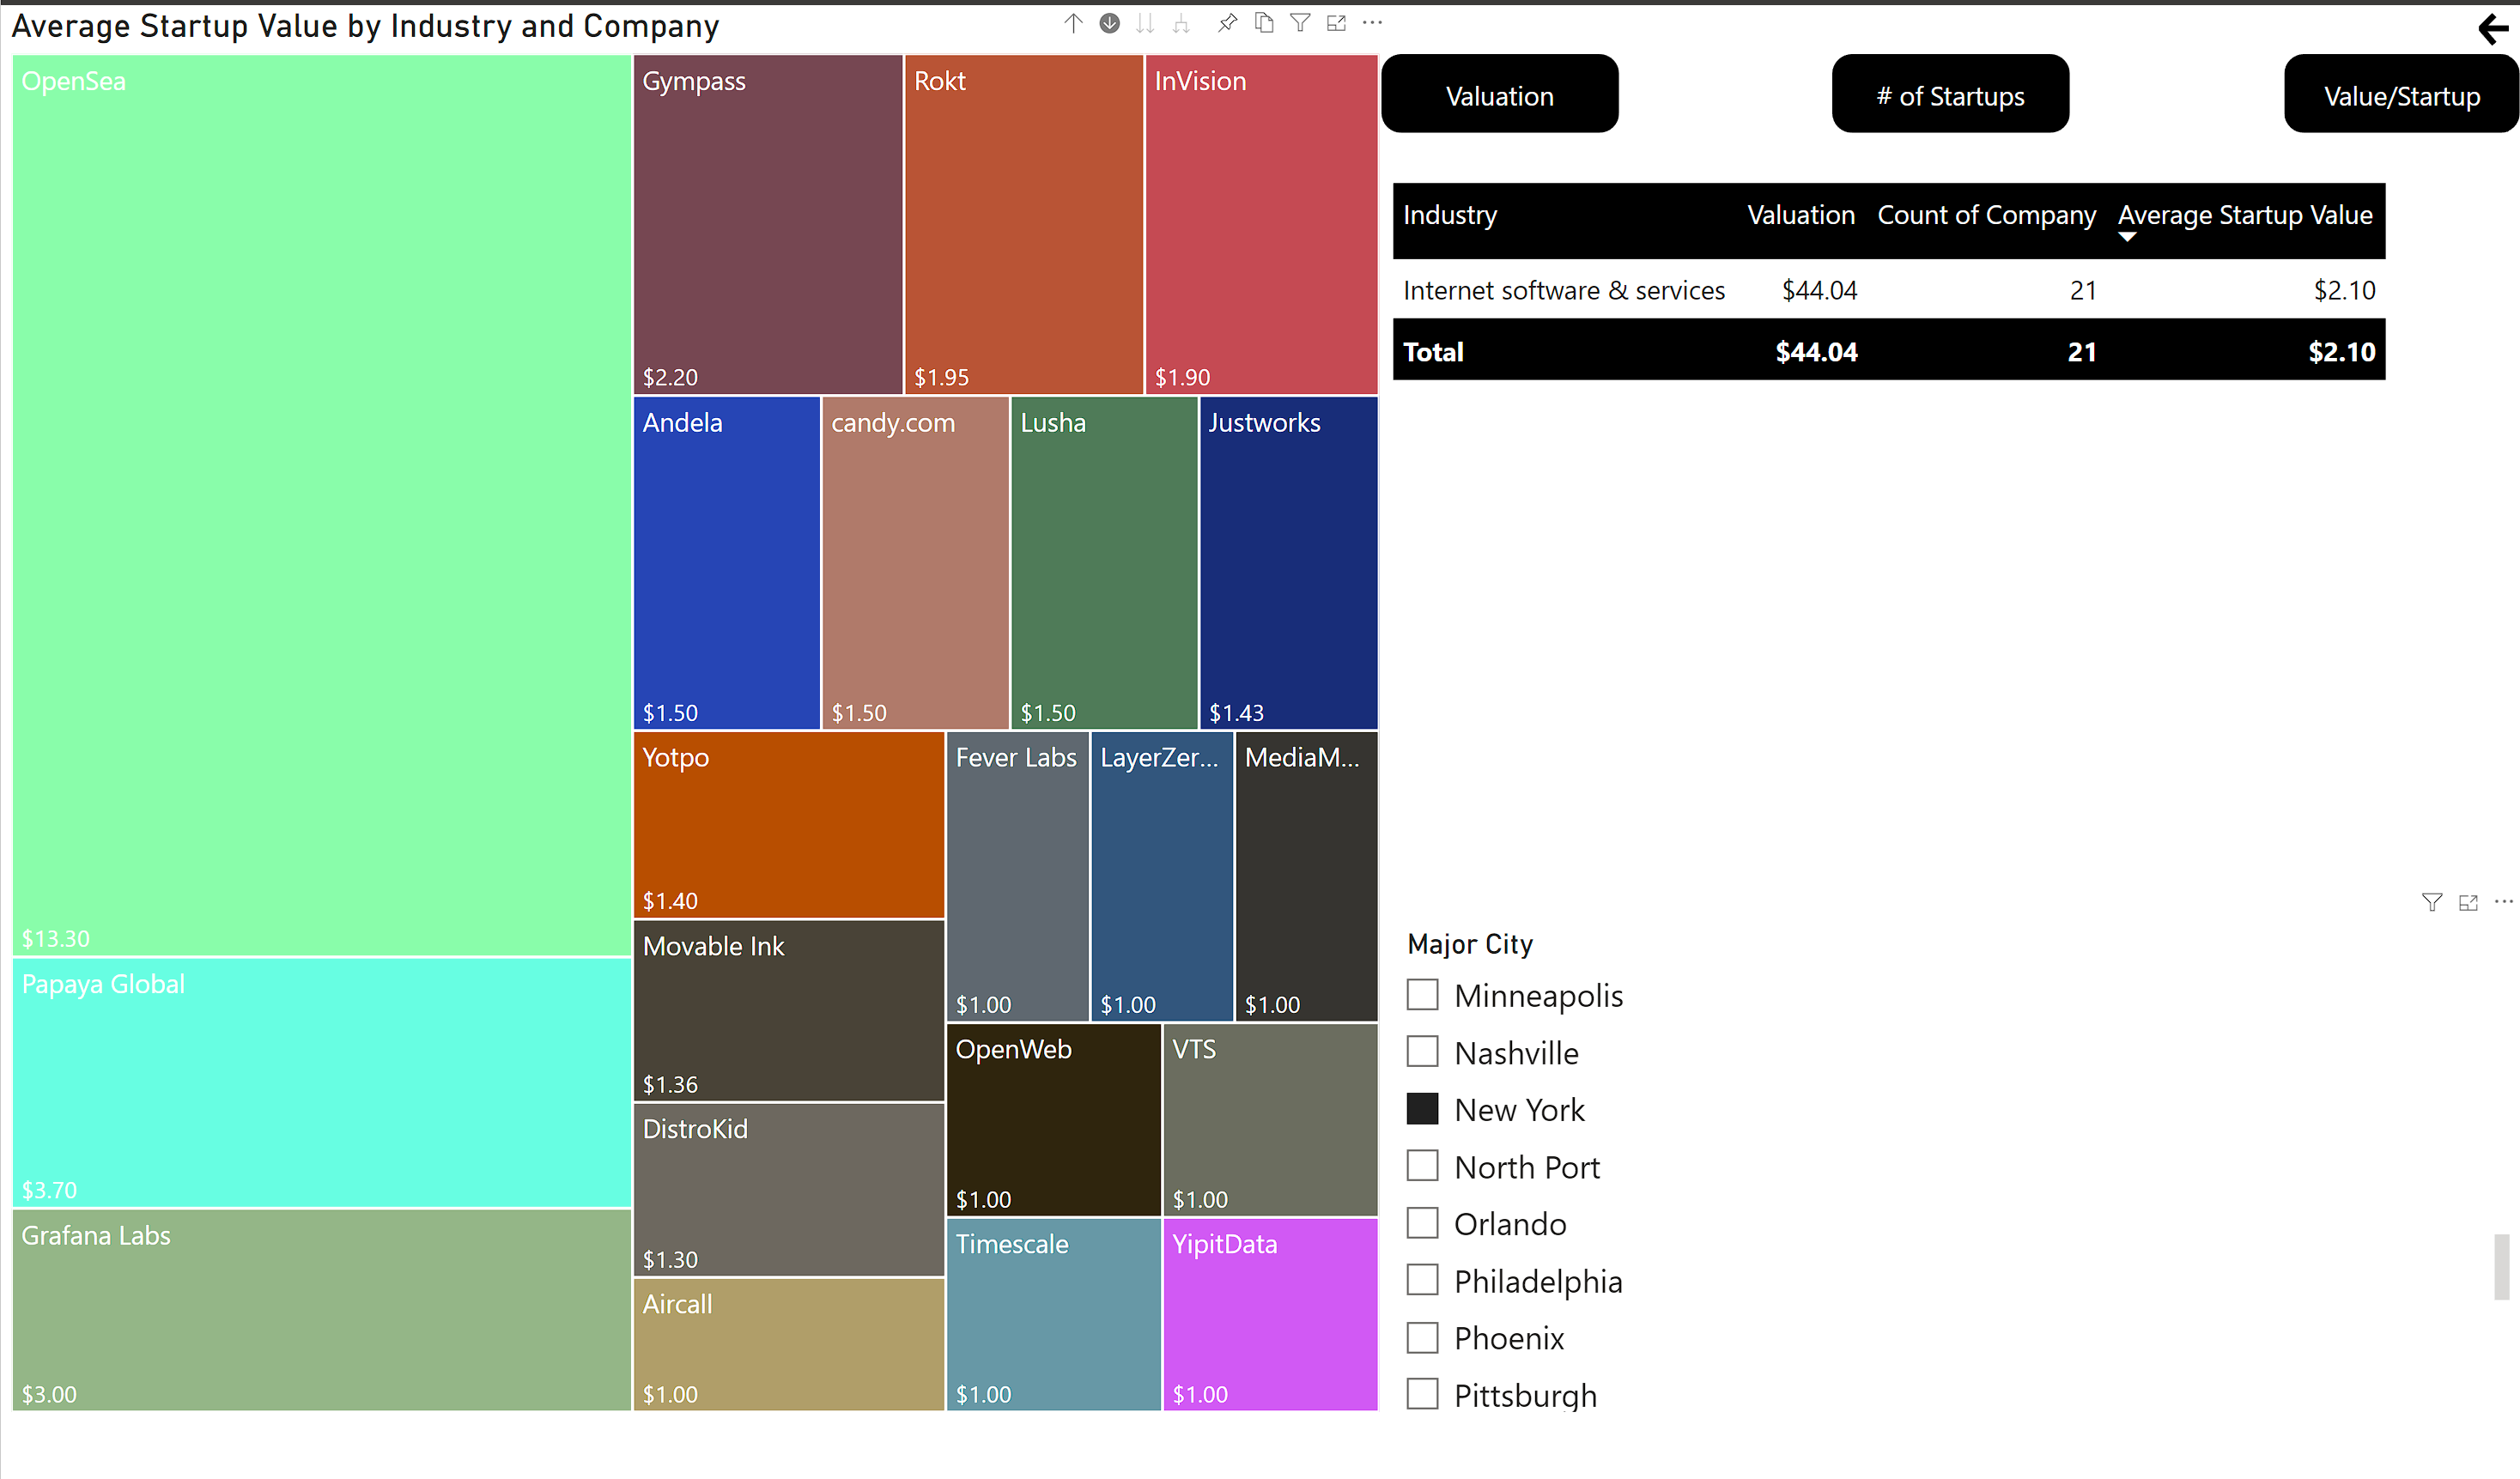

This screenshot's page, from the dashboard's own definition file:
{"tool":"powerbi","page":{"name":"Industries","canvas":[1280,720],"ordinal":3},"visuals":[{"type":"treemap","title":"Number of Startups per Industry","fields":{"Group":["Startups.Industry","Startups.Company"],"Values":["CountNonNull(Startups.Company)"]},"box":[0,0,705.1,719.8],"z":0},{"type":"tableEx","fields":{"Values":["Startups.Industry","Sum(Startups.Valuation)","Startups.Company","Major Cities Lookup.Average Startup Value"]},"box":[701.5,85.3,578.5,377.6],"z":1000},{"type":"slicer","fields":{"Values":["Major Cities Lookup.Major City"]},"box":[701.5,462.9,578.5,256.5],"z":4000},{"type":"actionButton","box":[701.5,24.7,120.5,40.2],"z":5000},{"type":"actionButton","box":[930.1,24.7,120.5,40.2],"z":6000},{"type":"actionButton","box":[1159.8,24.7,120.2,40.1],"z":7000},{"type":"actionButton","box":[1254.6,0,25.3,24.7],"z":8000}]}

Visuals, with their boxes on the page's 1280x720 design canvas (x1, y1, x2, y2). These are canvas units, not pixel positions in the 2520x1479 screenshot, which may show the page scaled, cropped or inside an application window:
"Number of Startups per Industry" treemap: {"x1": 0, "y1": 0, "x2": 705, "y2": 720}
tableEx - Startups.Industry x Sum(Startups.Valuation): {"x1": 702, "y1": 85, "x2": 1280, "y2": 463}
slicer - Major Cities Lookup.Major City: {"x1": 702, "y1": 463, "x2": 1280, "y2": 719}
actionButton: {"x1": 702, "y1": 25, "x2": 822, "y2": 65}
actionButton: {"x1": 930, "y1": 25, "x2": 1051, "y2": 65}
actionButton: {"x1": 1160, "y1": 25, "x2": 1280, "y2": 65}
actionButton: {"x1": 1255, "y1": 0, "x2": 1280, "y2": 25}
